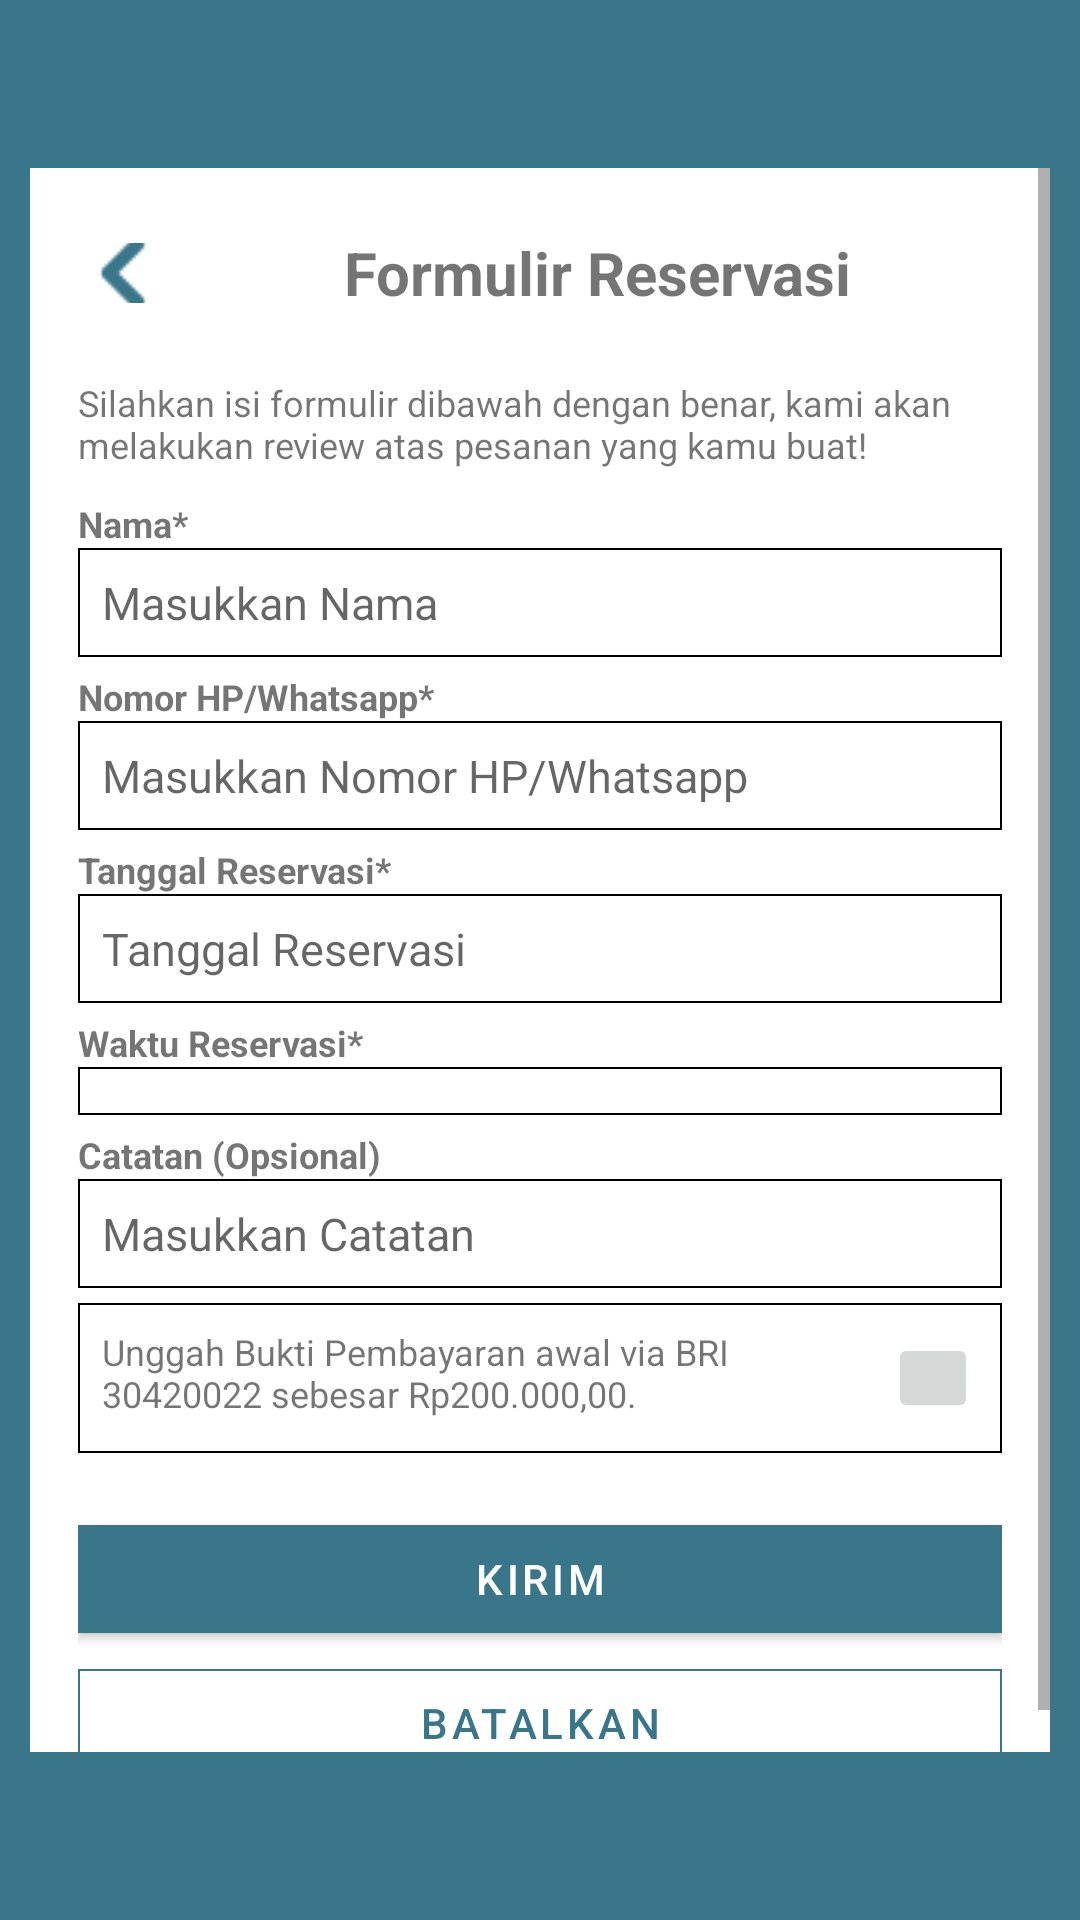

Locate icon controls on the screen. Image size 1080 x 1920, boxes as {"left": x1, "top": y1, "right": x2, "bottom": y2}.
backback: {"left": 101, "top": 243, "right": 146, "bottom": 303}
